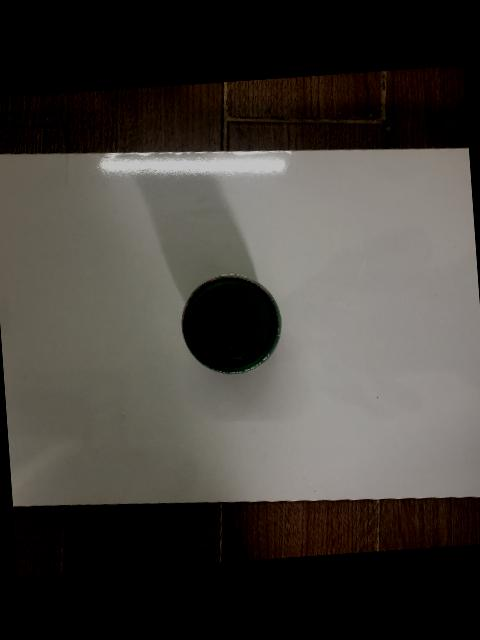milo: (182, 272, 282, 373)
